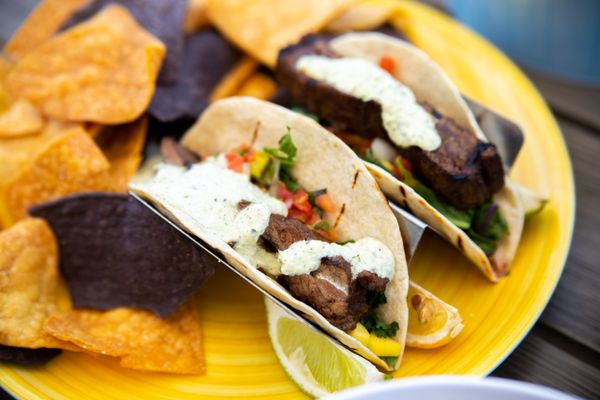soup: (127, 94, 410, 373), (276, 26, 533, 281)
